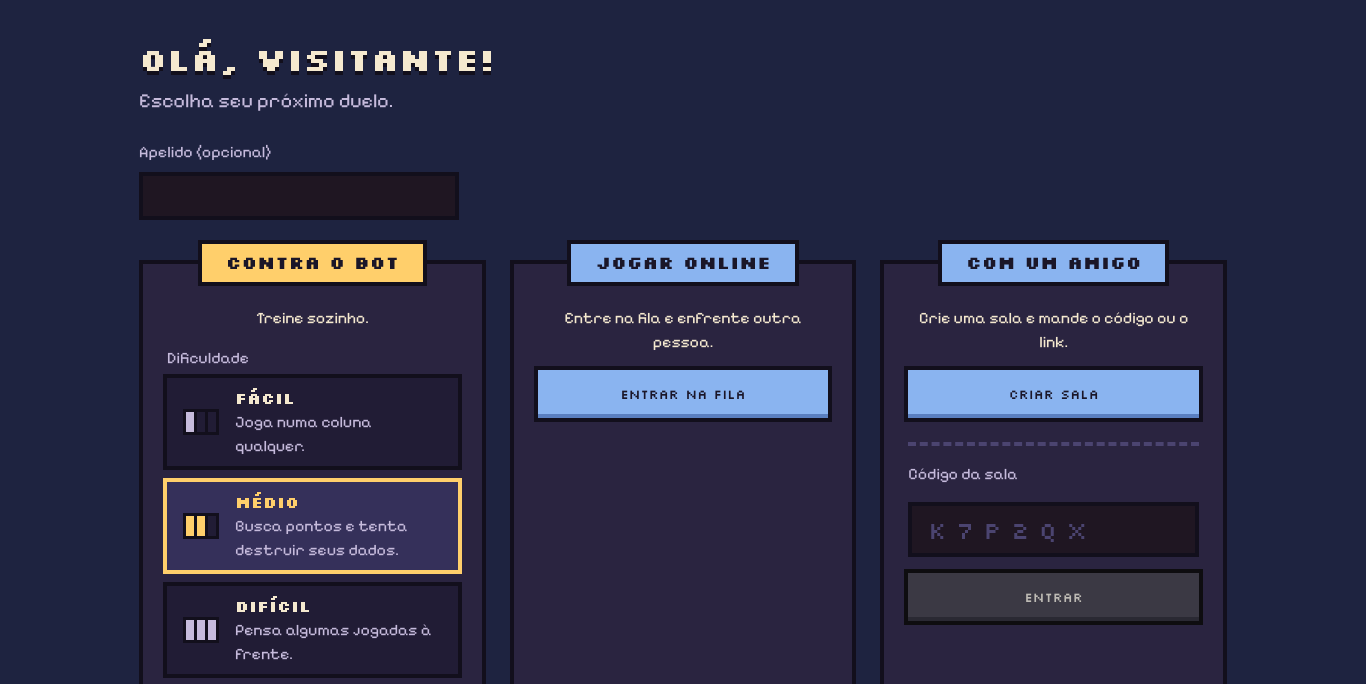
Test case: Lobby › impede entrar na fila com apelido inválido
Type "<ana>" into the field labelled "Apelido (opcional)".
click(299, 196); type("<ana>")  # box [139,172,459,220]
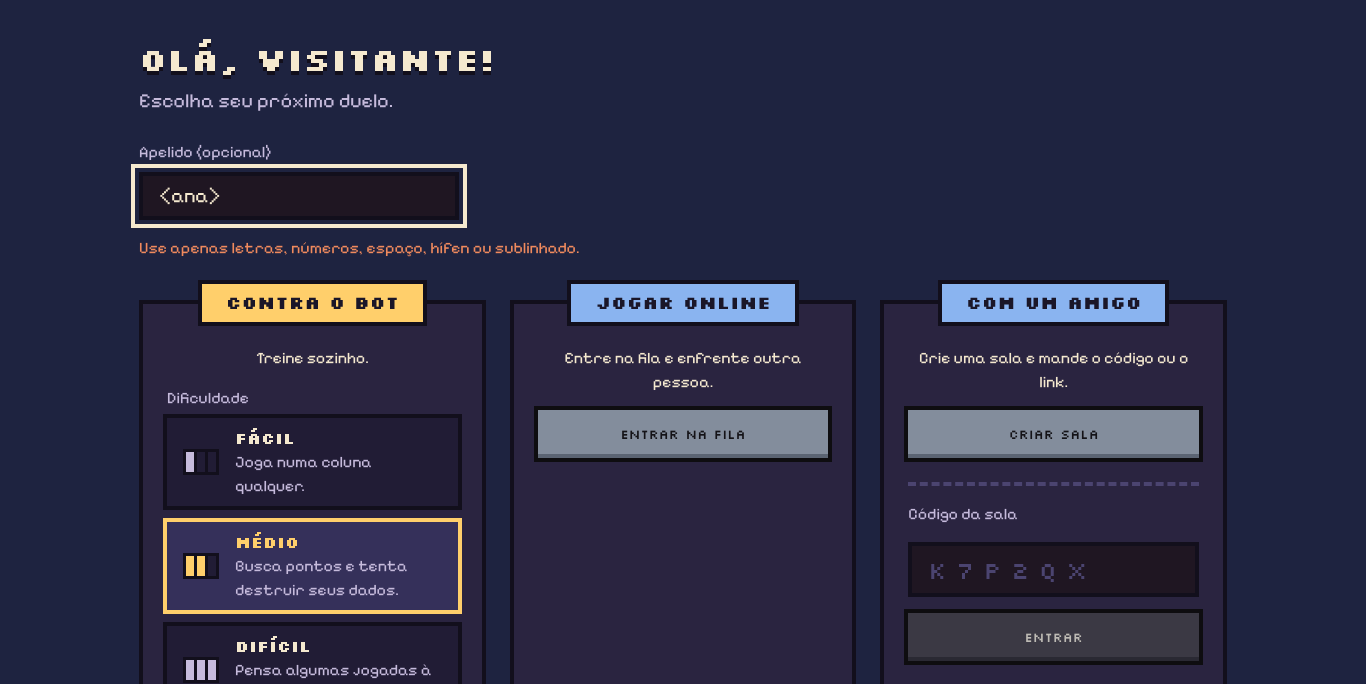
Result: the button "Entrar na fila" is disabled at [538,410,828,458]
